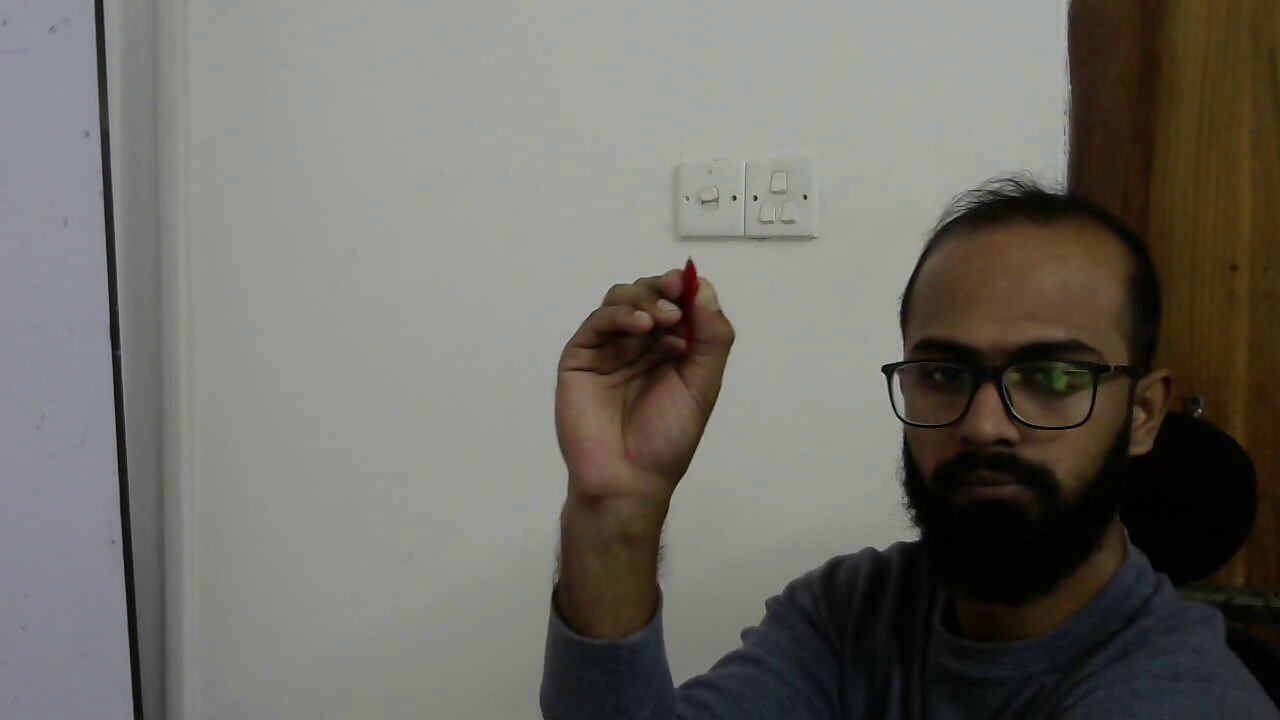pointer: (562, 266, 736, 403)
